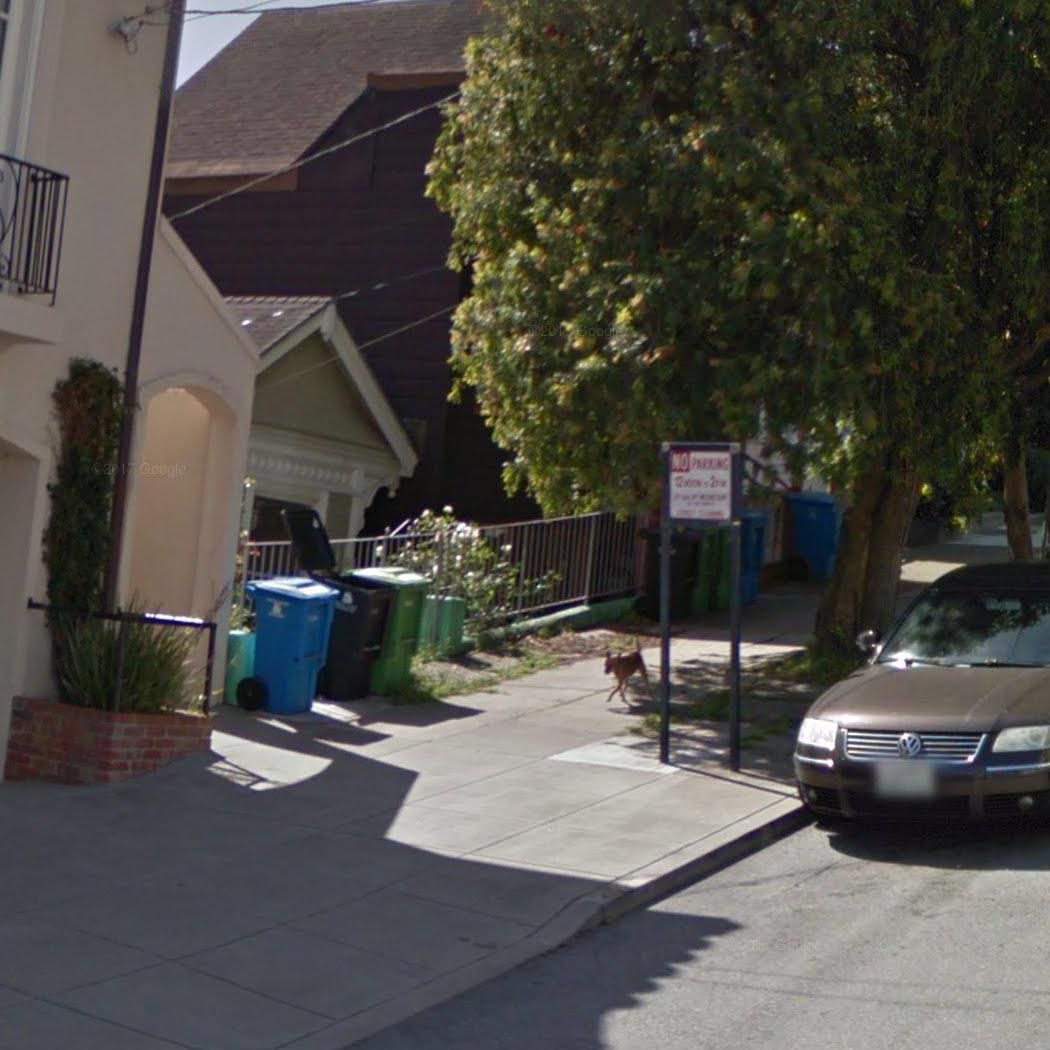No Parking: (663, 442, 737, 527)
